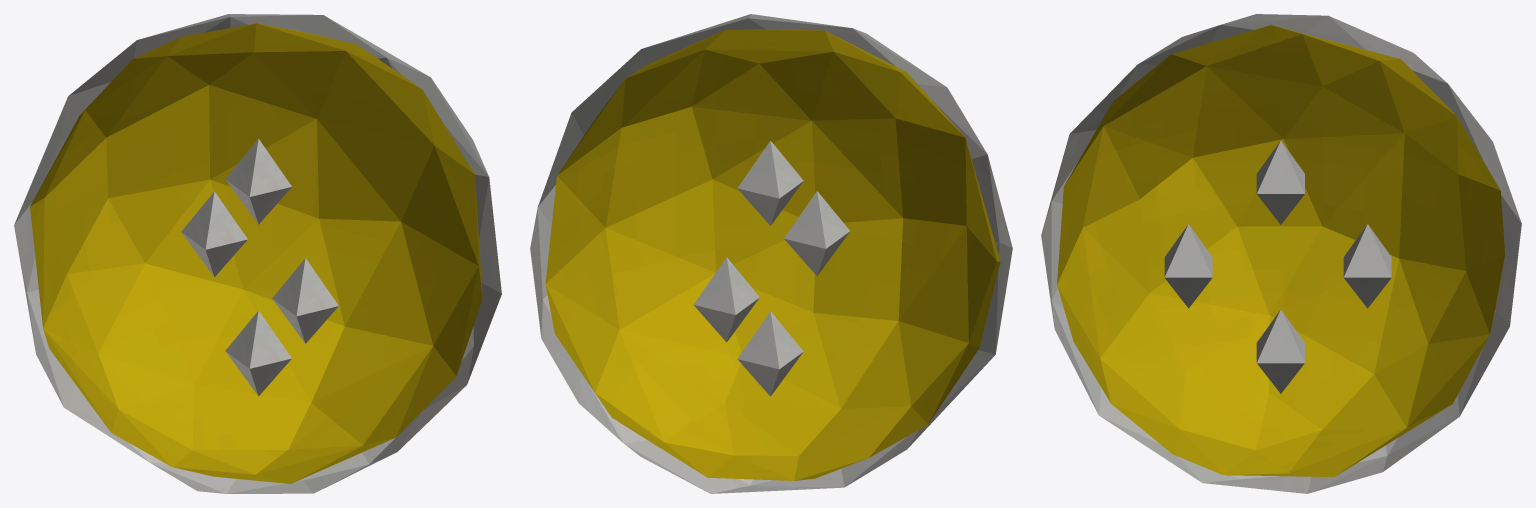
File: item_quest_dball_4.glb
3 renders of one model, left to right at view 1: azimuth 30°, elevation 25°; view 2: azimuth 150°, elevation 25°; view 3: azimuth 270°, elevation 25°, orthographic.
Visible parts, largest first — view 1: DragonBall, DragonBall.001, Diamond.002, Diamond.003, Diamond, Diamond.001; view 2: DragonBall, DragonBall.001, Diamond.003, Diamond.002, Diamond.001, Diamond; view 3: DragonBall, DragonBall.001, Diamond, Diamond.003, Diamond.001, Diamond.002.
Boxes of the visible parts, x1=… form: DragonBall: x1=30, y1=23, x2=482, y2=483; DragonBall.001: x1=14, y1=14, x2=501, y2=493; Diamond.002: x1=181, y1=191, x2=247, y2=277; Diamond.003: x1=225, y1=310, x2=291, y2=396; Diamond: x1=225, y1=138, x2=291, y2=224; Diamond.001: x1=272, y1=258, x2=338, y2=343; DragonBall: x1=545, y1=29, x2=1000, y2=480; DragonBall.001: x1=530, y1=14, x2=1012, y2=493; Diamond.003: x1=737, y1=311, x2=803, y2=396; Diamond.002: x1=693, y1=257, x2=759, y2=342; Diamond.001: x1=784, y1=191, x2=850, y2=275; Diamond: x1=737, y1=140, x2=803, y2=225; DragonBall: x1=1057, y1=25, x2=1505, y2=477; DragonBall.001: x1=1041, y1=14, x2=1521, y2=493; Diamond: x1=1256, y1=140, x2=1304, y2=224; Diamond.003: x1=1256, y1=309, x2=1304, y2=393; Diamond.001: x1=1164, y1=224, x2=1212, y2=308; Diamond.002: x1=1343, y1=224, x2=1391, y2=308.
Bounding box in the file's own units: 0.3543 × 0.3537 × 0.3537.
2 materials, 2 textured.
